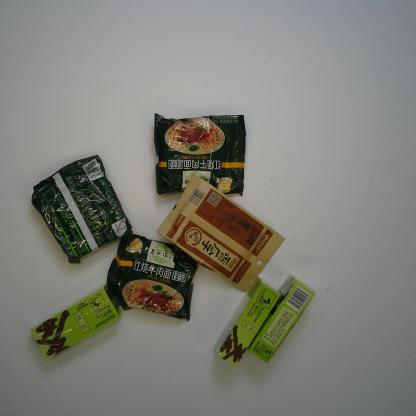Dried Food: (155, 173, 286, 294)
Instant Drink: (28, 283, 122, 360), (246, 272, 316, 364), (214, 276, 282, 368)
Instant Noodles: (29, 154, 133, 266), (106, 230, 198, 322), (152, 112, 247, 196)
